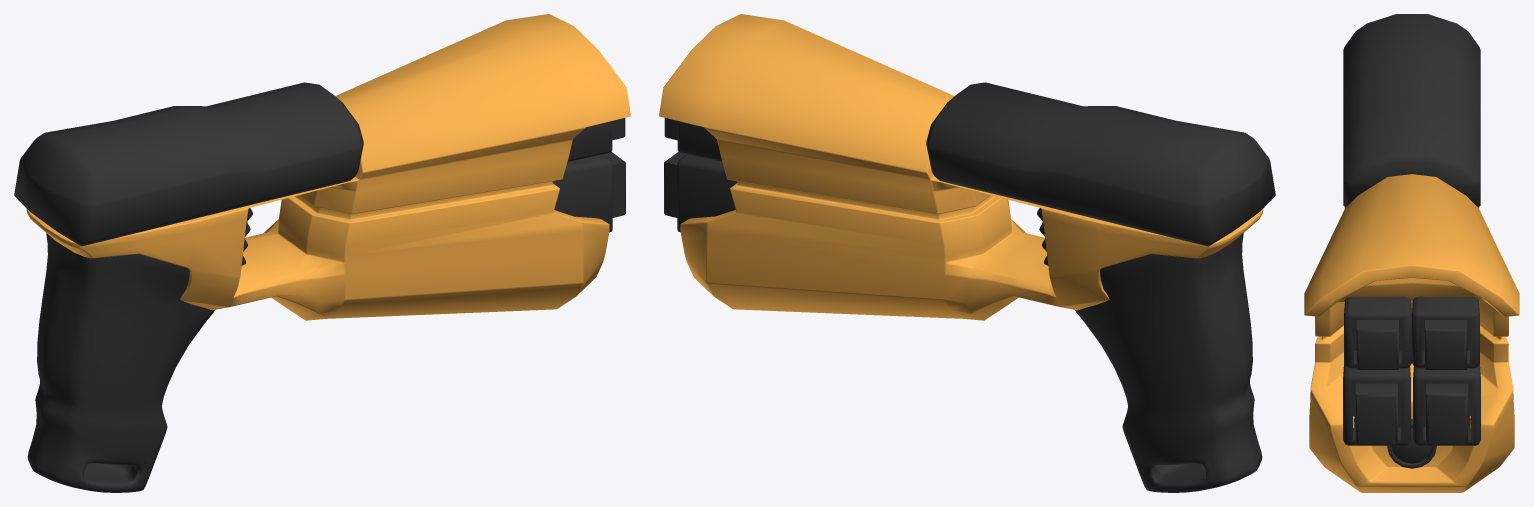
File: taser.fbx
The picture shows the model from 3 angles, left to right: view 1: azimuth 30°, elevation 25°; view 2: azimuth 150°, elevation 25°; view 3: azimuth 270°, elevation 25°; orthographic projection. The views are drawn at different scales.
Parts seen in each view (by area): view 1: Cube.009, Cube.013, Cube.012, Cube.010, Cube.011; view 2: Cube.009, Cube.013, Cube.012, Cube.010, Cube.011; view 3: Cube.009, Cube.013, Cube.010, Cube.011, Cylinder.001.
Boxes of the visible parts, x1,y1,x2,y2 form: Cube.009: (26, 14, 630, 320); Cube.013: (14, 82, 363, 246); Cube.012: (27, 233, 215, 492); Cube.010: (552, 152, 625, 232); Cube.011: (567, 118, 625, 161); Cube.009: (659, 14, 1263, 320); Cube.013: (926, 82, 1275, 246); Cube.012: (1074, 233, 1262, 492); Cube.010: (664, 152, 737, 232); Cube.011: (664, 118, 722, 161); Cube.009: (1304, 174, 1519, 492); Cube.013: (1343, 14, 1480, 207); Cube.010: (1343, 363, 1480, 445); Cube.011: (1344, 296, 1479, 369); Cylinder.001: (1387, 419, 1436, 468).
Size of the model in its own units: 19.08 by 34.53 by 56.41.
